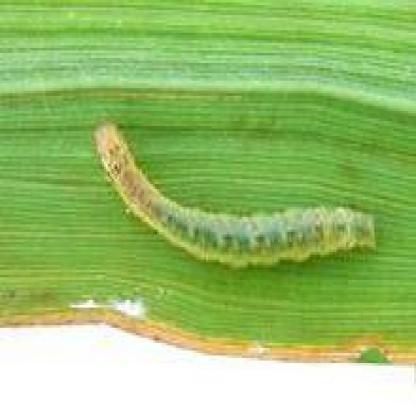leaf-folder: (83, 116, 377, 282)
